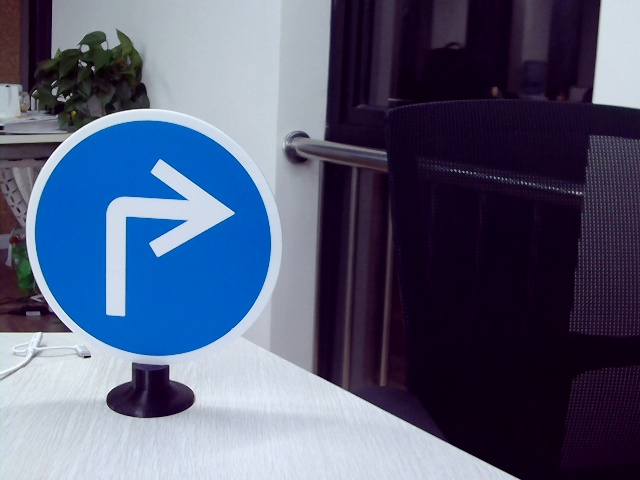turn_right: (91, 158, 235, 319)
